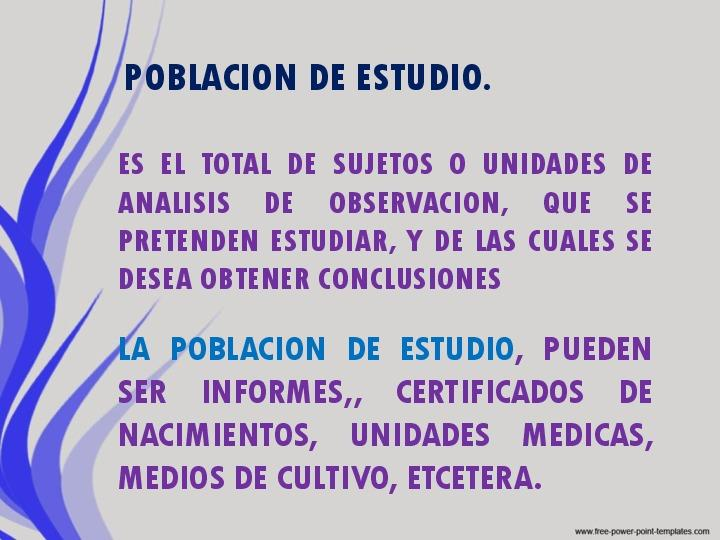paragraph: (94, 142, 688, 514)
title: (113, 54, 506, 109)
